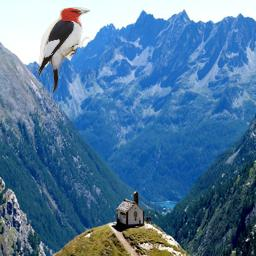Woodpecker: (37, 7, 90, 93)
